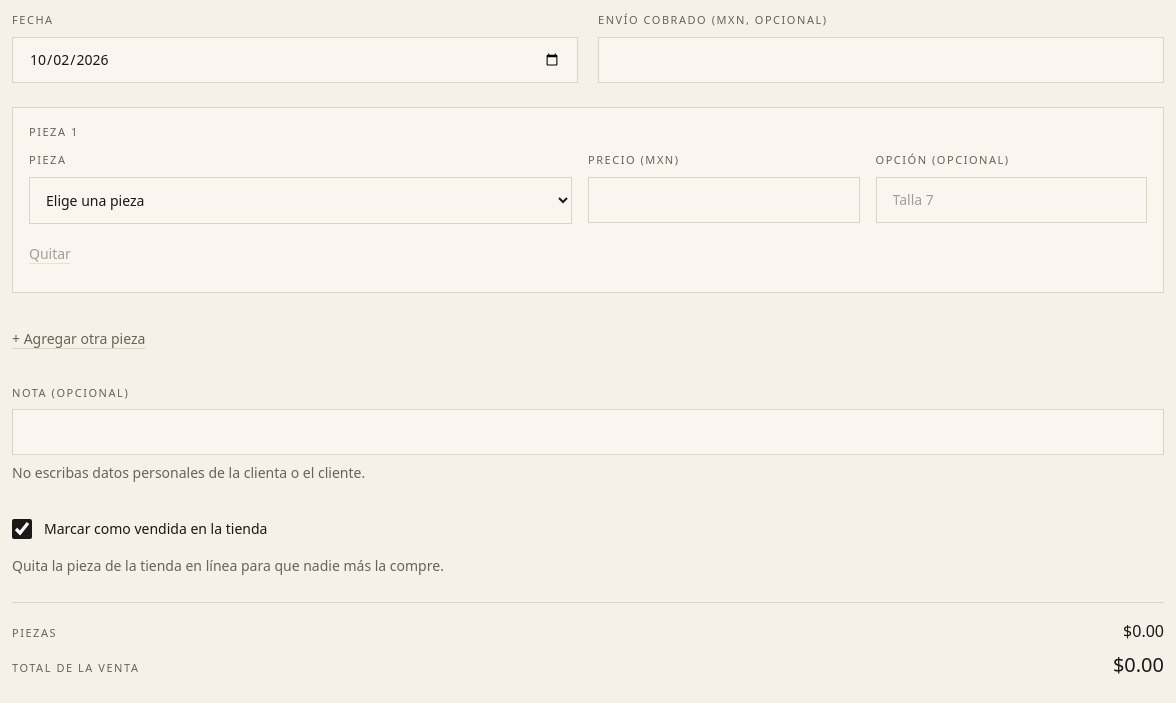
Test: ManualSaleForm: the piece rows › clears the price again if the row goes back to no piece
The image size is (1176, 703).
Select "Anillo Luna" in the dropdown labelled "Pieza" at (300, 200), box [29,176,572,224]
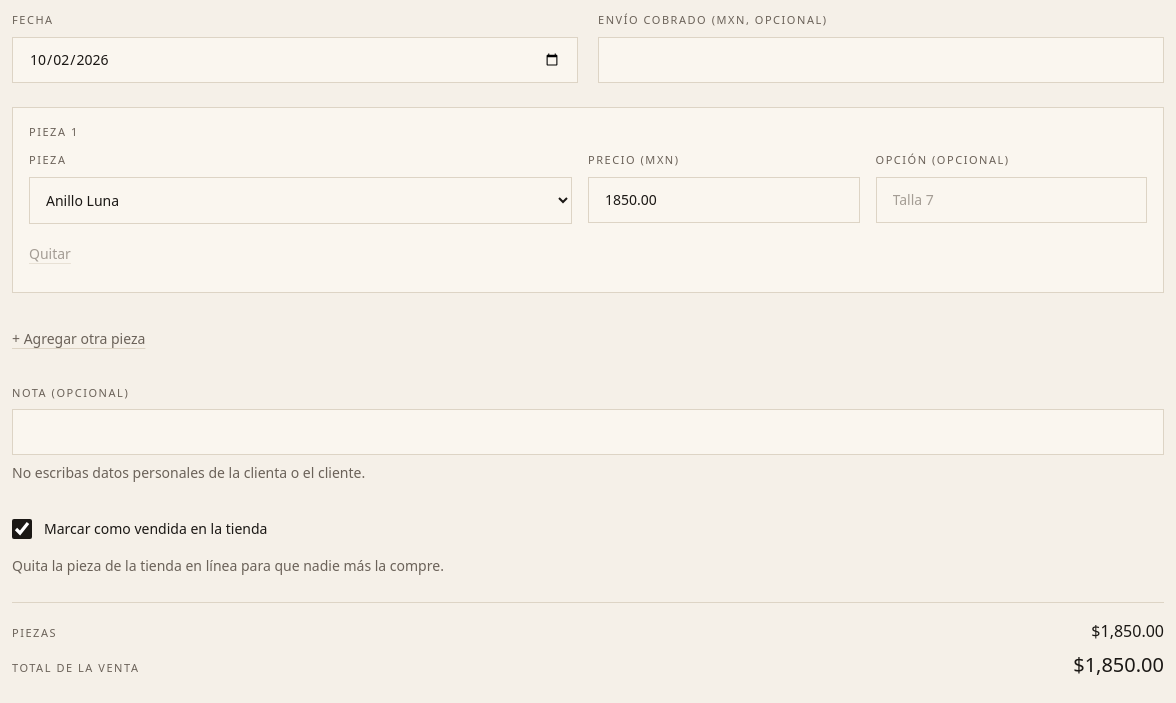
Select "Elige una pieza" in the dropdown labelled "Pieza" at (300, 200), box [29,176,572,224]
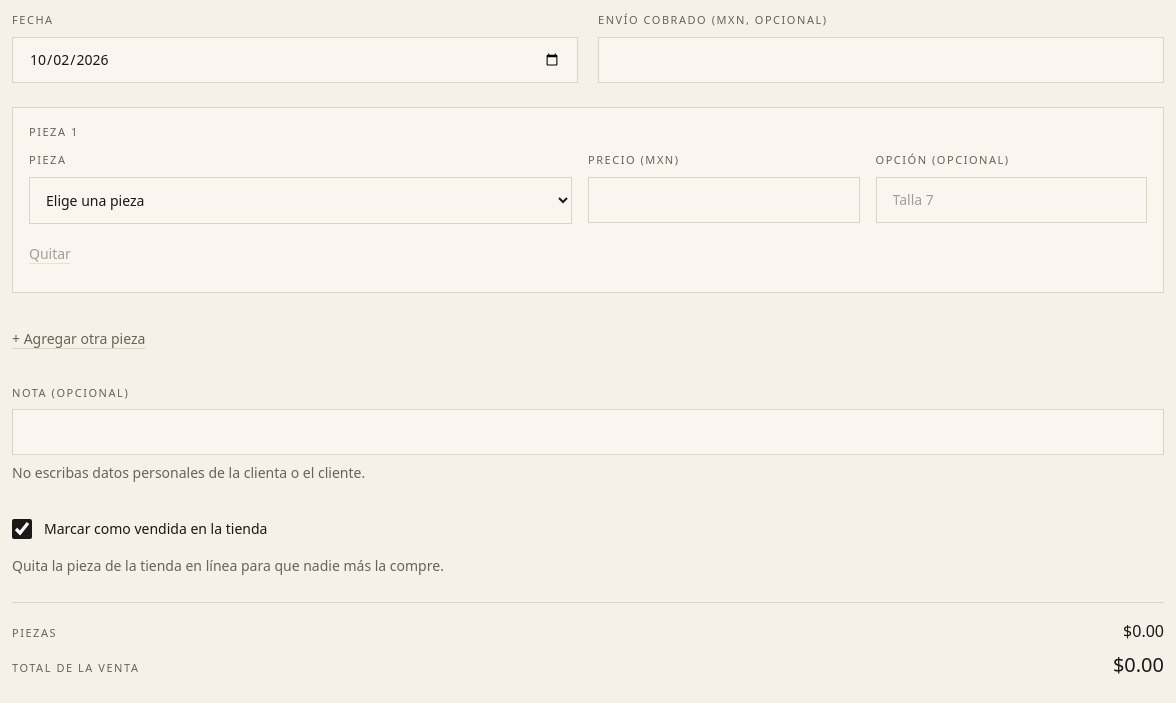
Check: the number field labelled "Precio (MXN)" is not empty, box [588,176,860,222]
